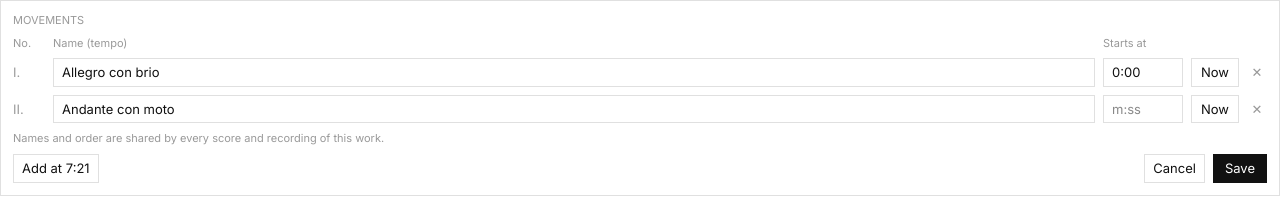
RecordingMovementEditor (YouTube) › fills a row with the video's current time
Click the button with aria-label "Use current time for movement II" at (1215, 109), box left=1191, top=95, right=1239, bottom=124
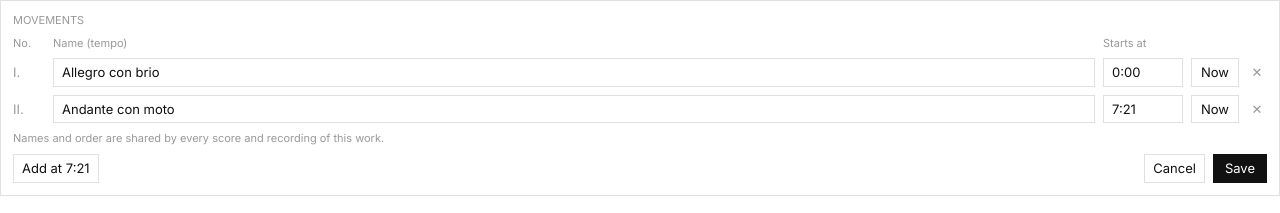
Now the field named "Movement II start time" holds "7:21", box left=1103, top=95, right=1183, bottom=124
